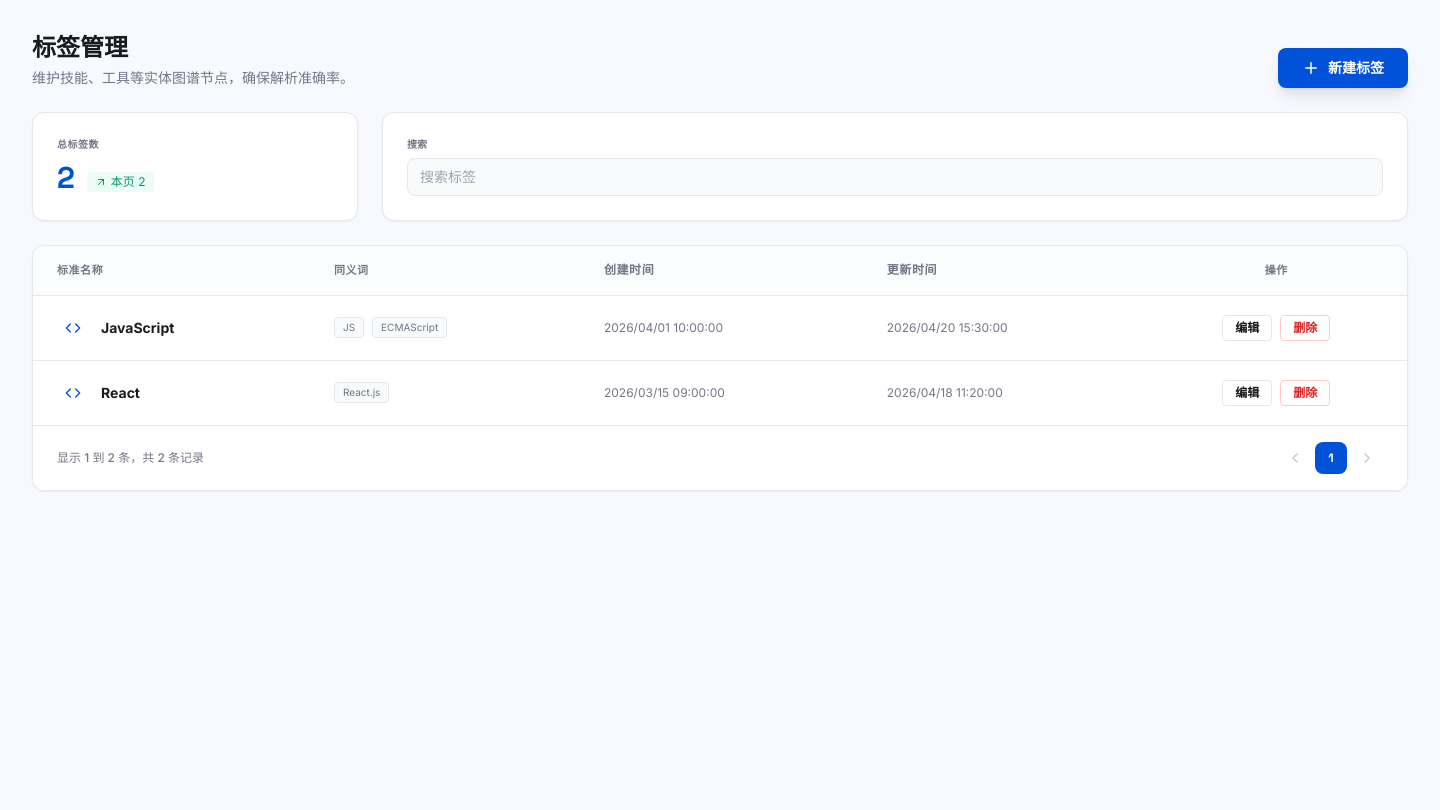
Test: AdminSkillTagsPage › 点击编辑按钮打开编辑弹窗
The width and height of the screenshot is (1440, 810).
Expected: the text "JavaScript" is shown, [101,318,174,338]
Click the button "编辑" in the row of "JavaScript" at point(1247, 328), box [1222,314,1272,340]
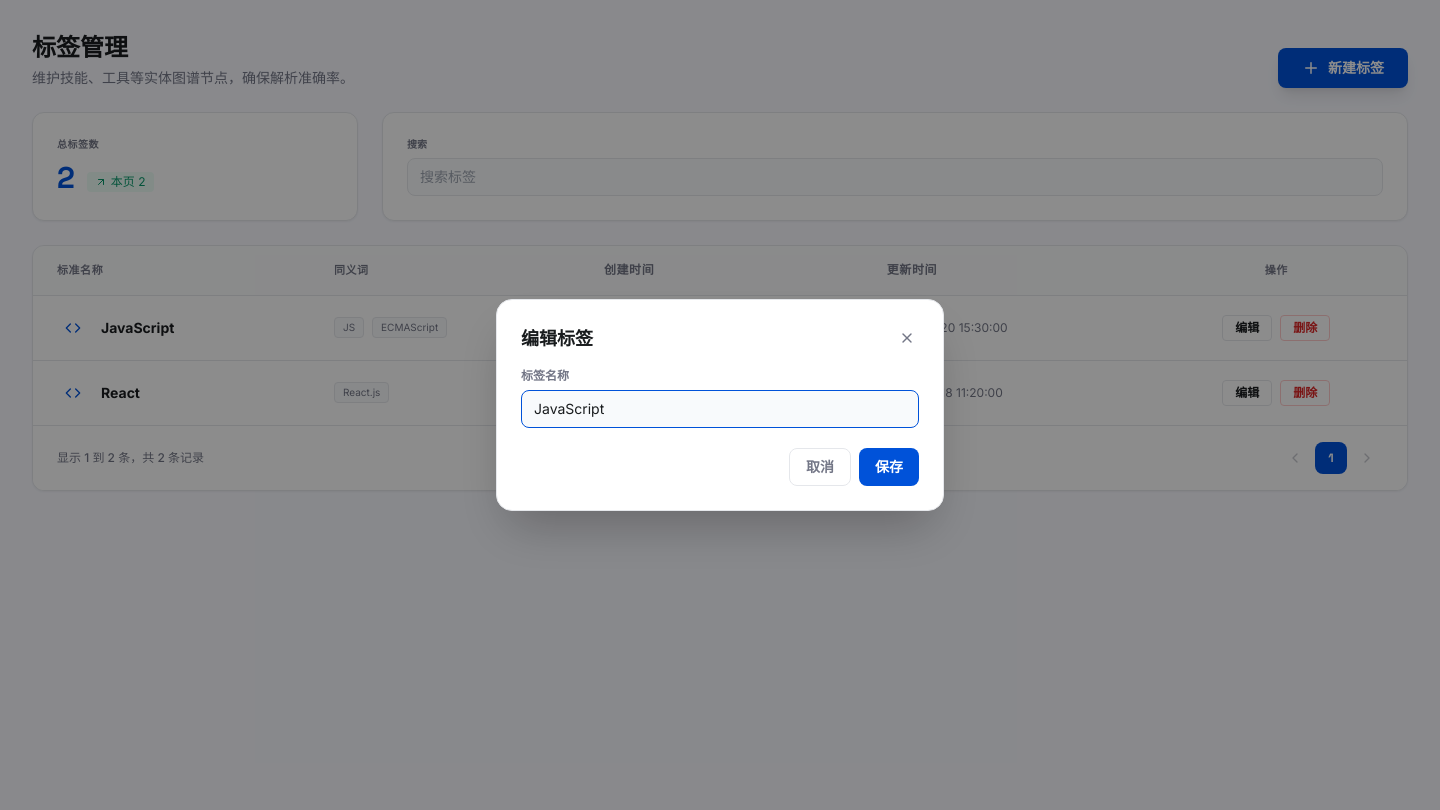
Expected: the heading "编辑标签" is shown, [521,324,593,352]
